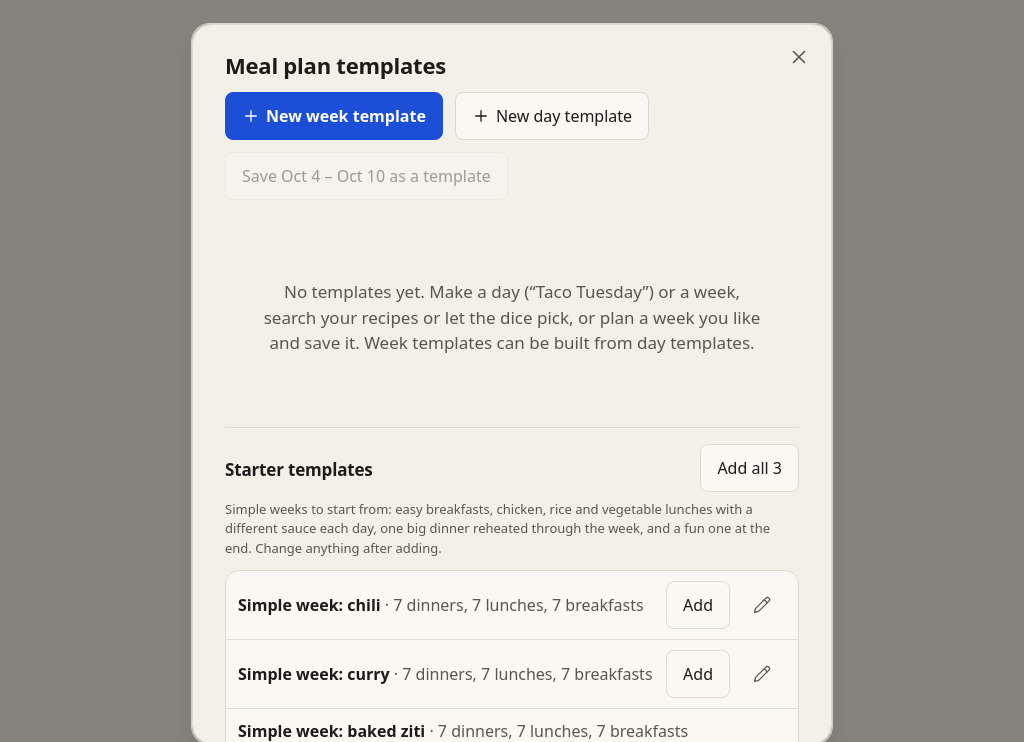
searching recipes while making a template › picks a recipe from the list in the template editor
Click the button "New week template" at coordinates (334, 116), box x1=225 y1=92 x2=443 y2=140
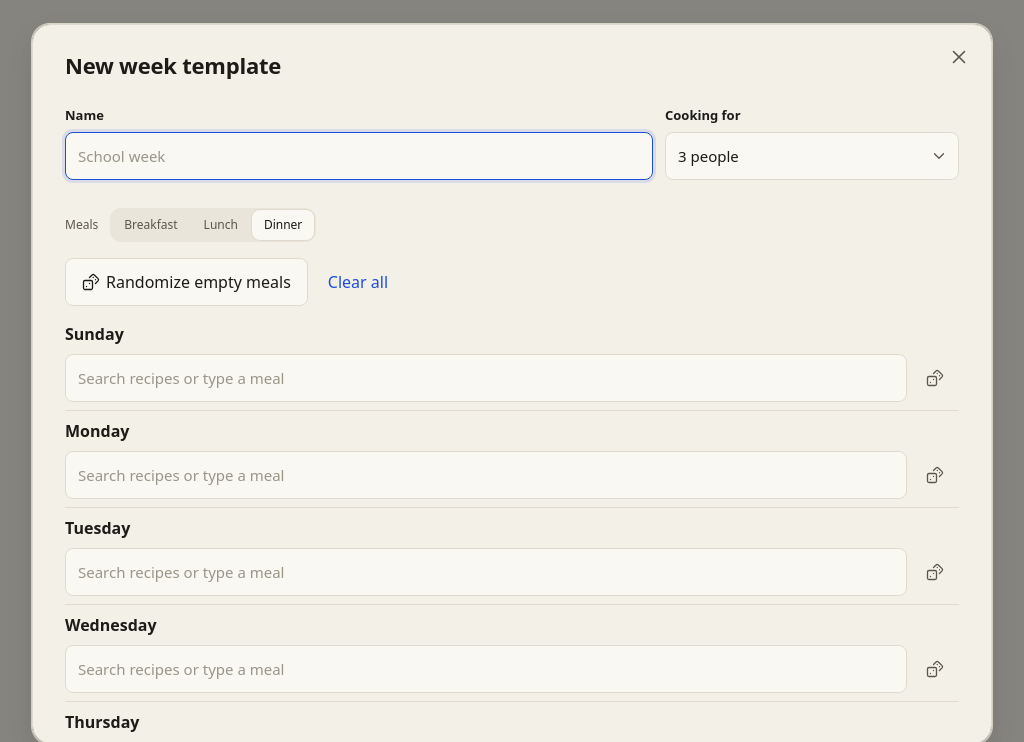
Type "broc" into the dropdown named "Monday dinner" at coordinates (486, 475), box x1=65 y1=451 x2=907 y2=499
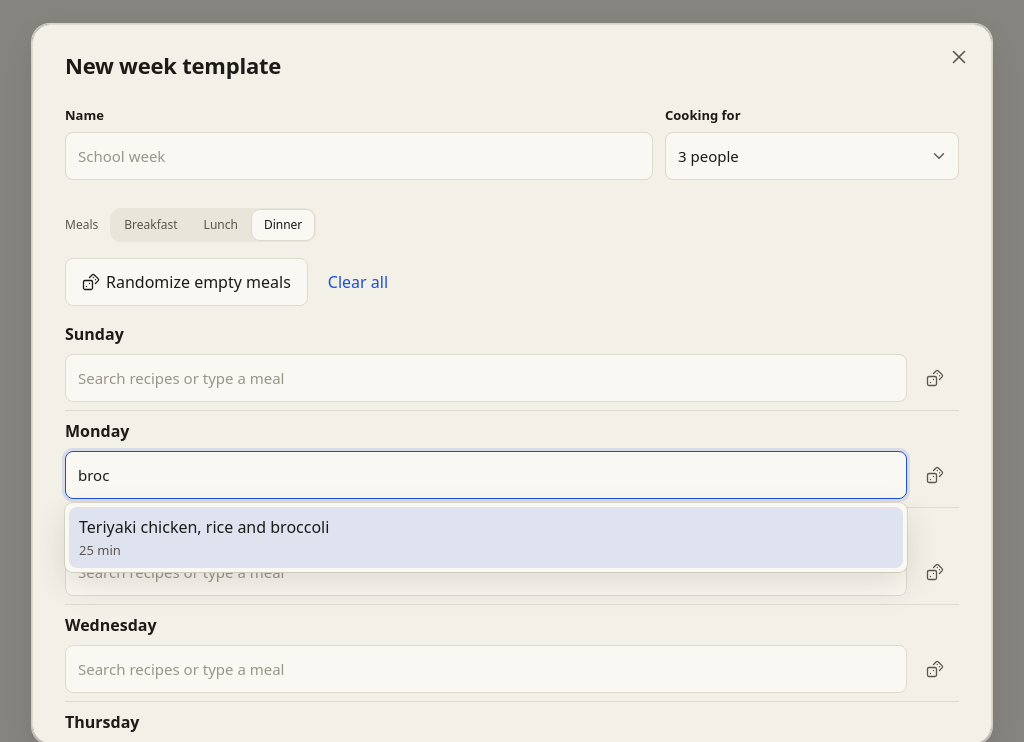
Click the option "Teriyaki chicken, rice and broccoli 25 min" at coordinates (204, 527), box x1=69 y1=507 x2=903 y2=568
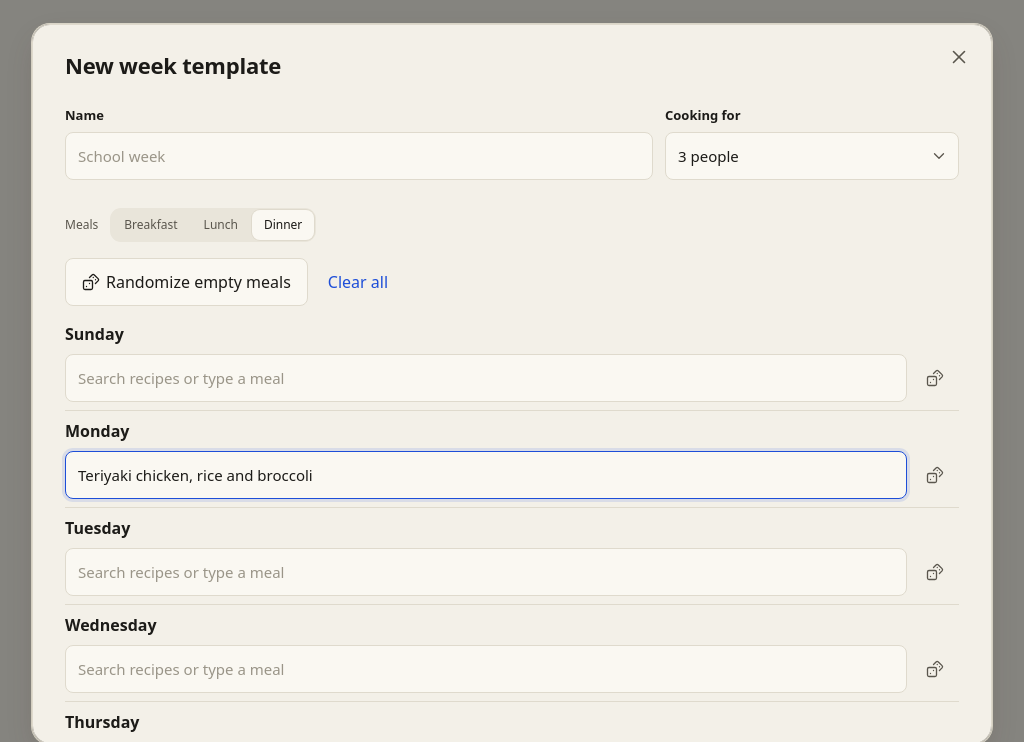
expect the dropdown named "Monday dinner" holds "Teriyaki chicken, rice and broccoli": met, box x1=65 y1=451 x2=907 y2=499
